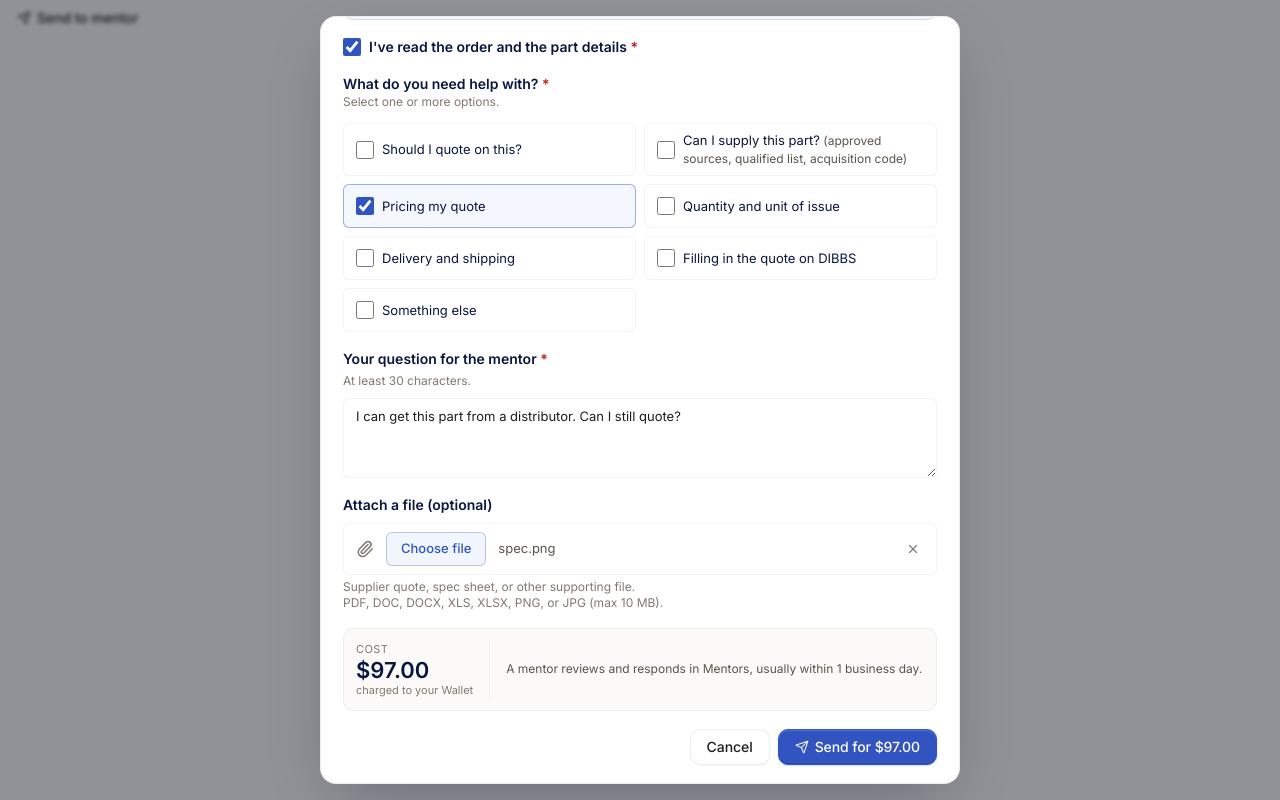
it: sending a small order to a mentor › says the file did not attach, without calling the send a failure
This screenshot has width=1280, height=800.
Earlier steps of the test are not shown.
(page scrolled)
Click the button "Send for $97.00" at (857, 747), box [778,729,937,765]
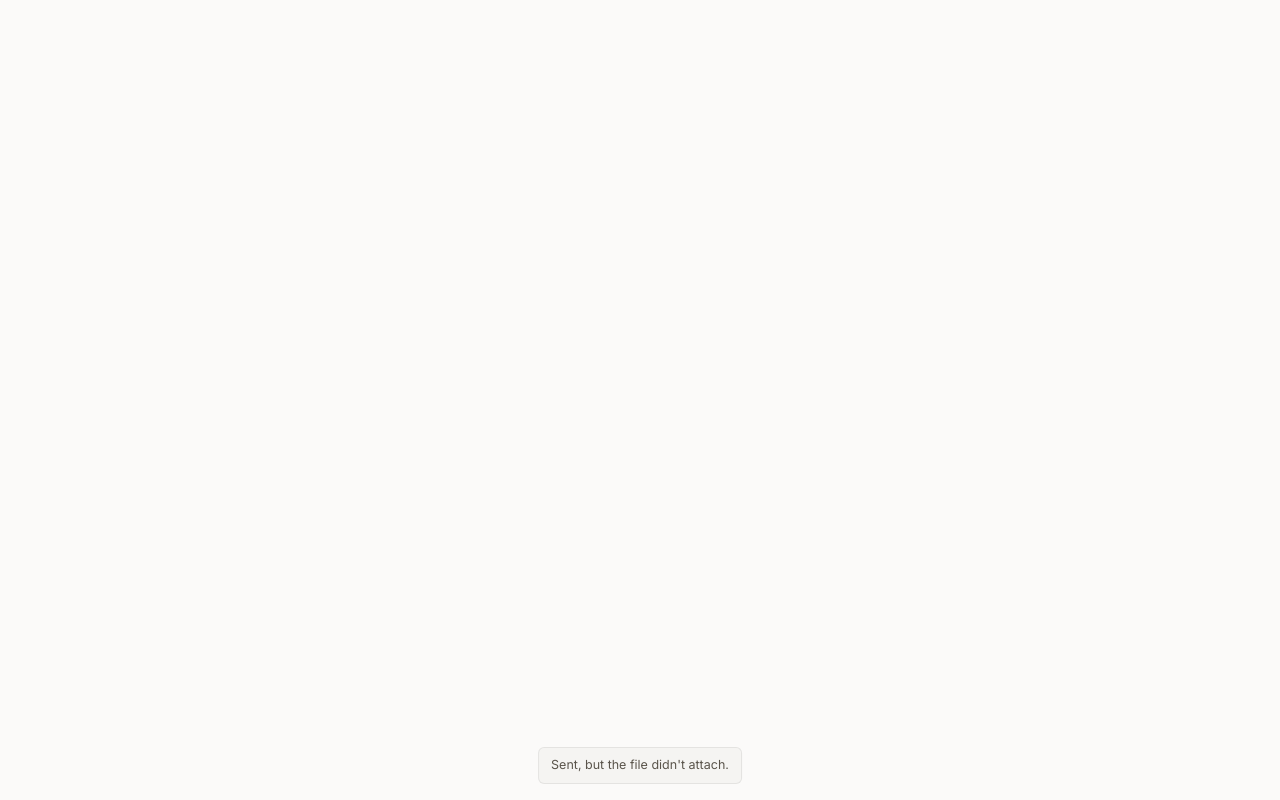
Result: the message reads "Sent, but the file didn't attach." at [551,757,729,772]
Result: the button "Send to mentor" is gone
